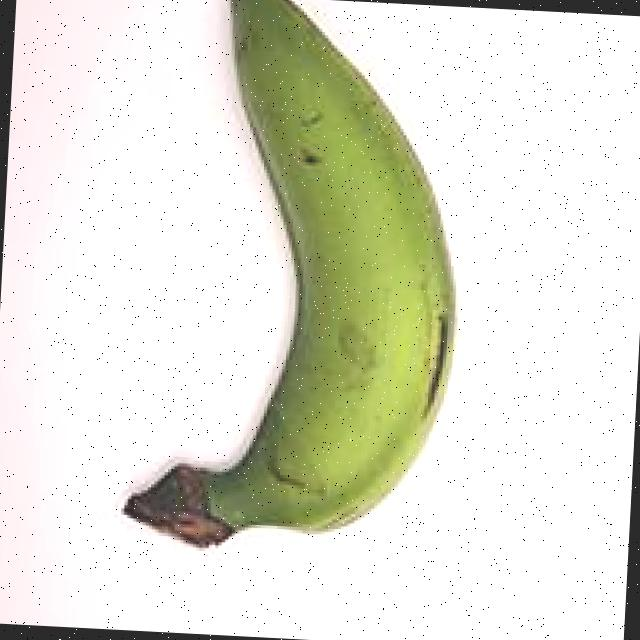Raw: (88, 0, 486, 589)
